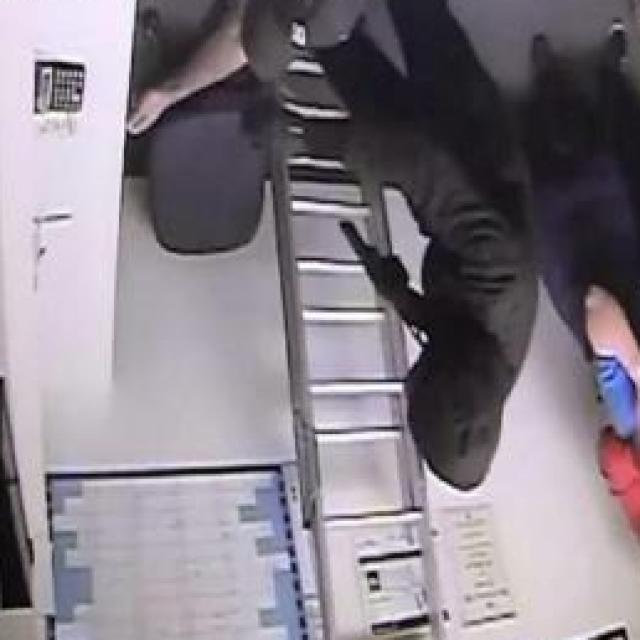pistol: (335, 218, 410, 288)
